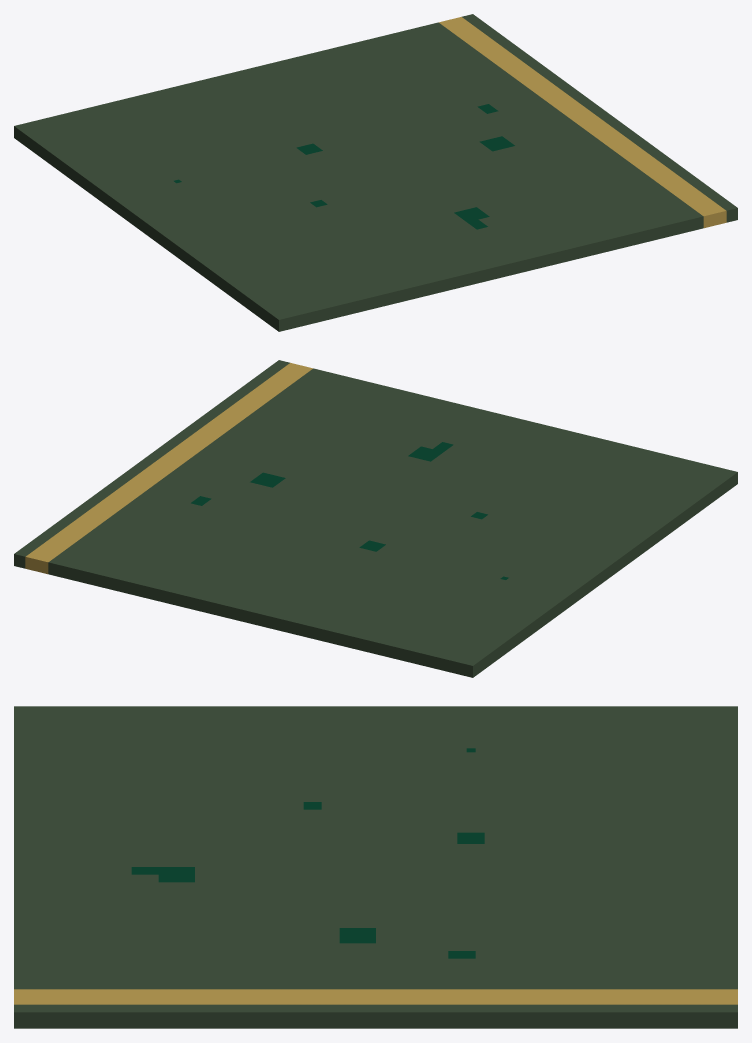
The model's file is Free Sample-4-Street-6.obj.
3 renders of one model, top to bottom at view 1: azimuth 30°, elevation 25°; view 2: azimuth 150°, elevation 25°; view 3: azimuth 270°, elevation 25°, orthographic. The views are drawn at different scales.
Visible parts, largest first — view 1: Street-6; view 2: Street-6; view 3: Street-6.
Boxes of the visible parts, box(x1,y1,x2,y2) form: Street-6: box(14, 14, 737, 331); Street-6: box(14, 360, 737, 677); Street-6: box(14, 706, 737, 1028).
Size of the model in its own units: 1.6 by 0.04 by 1.6.
1 material, 1 textured.
